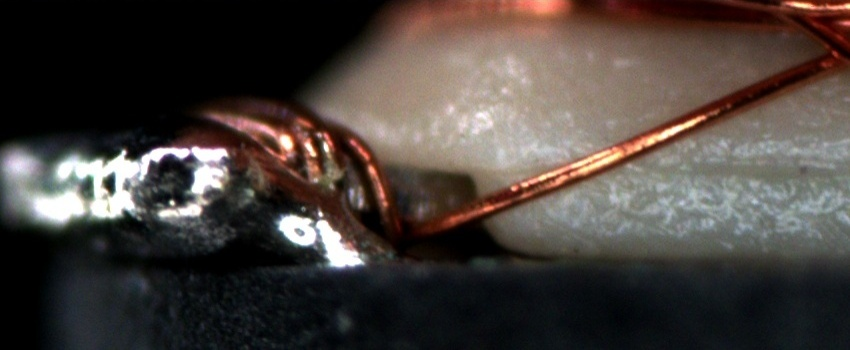CL: (800, 22, 849, 79)
DL: (519, 133, 850, 195)
TE: (205, 90, 406, 252)
